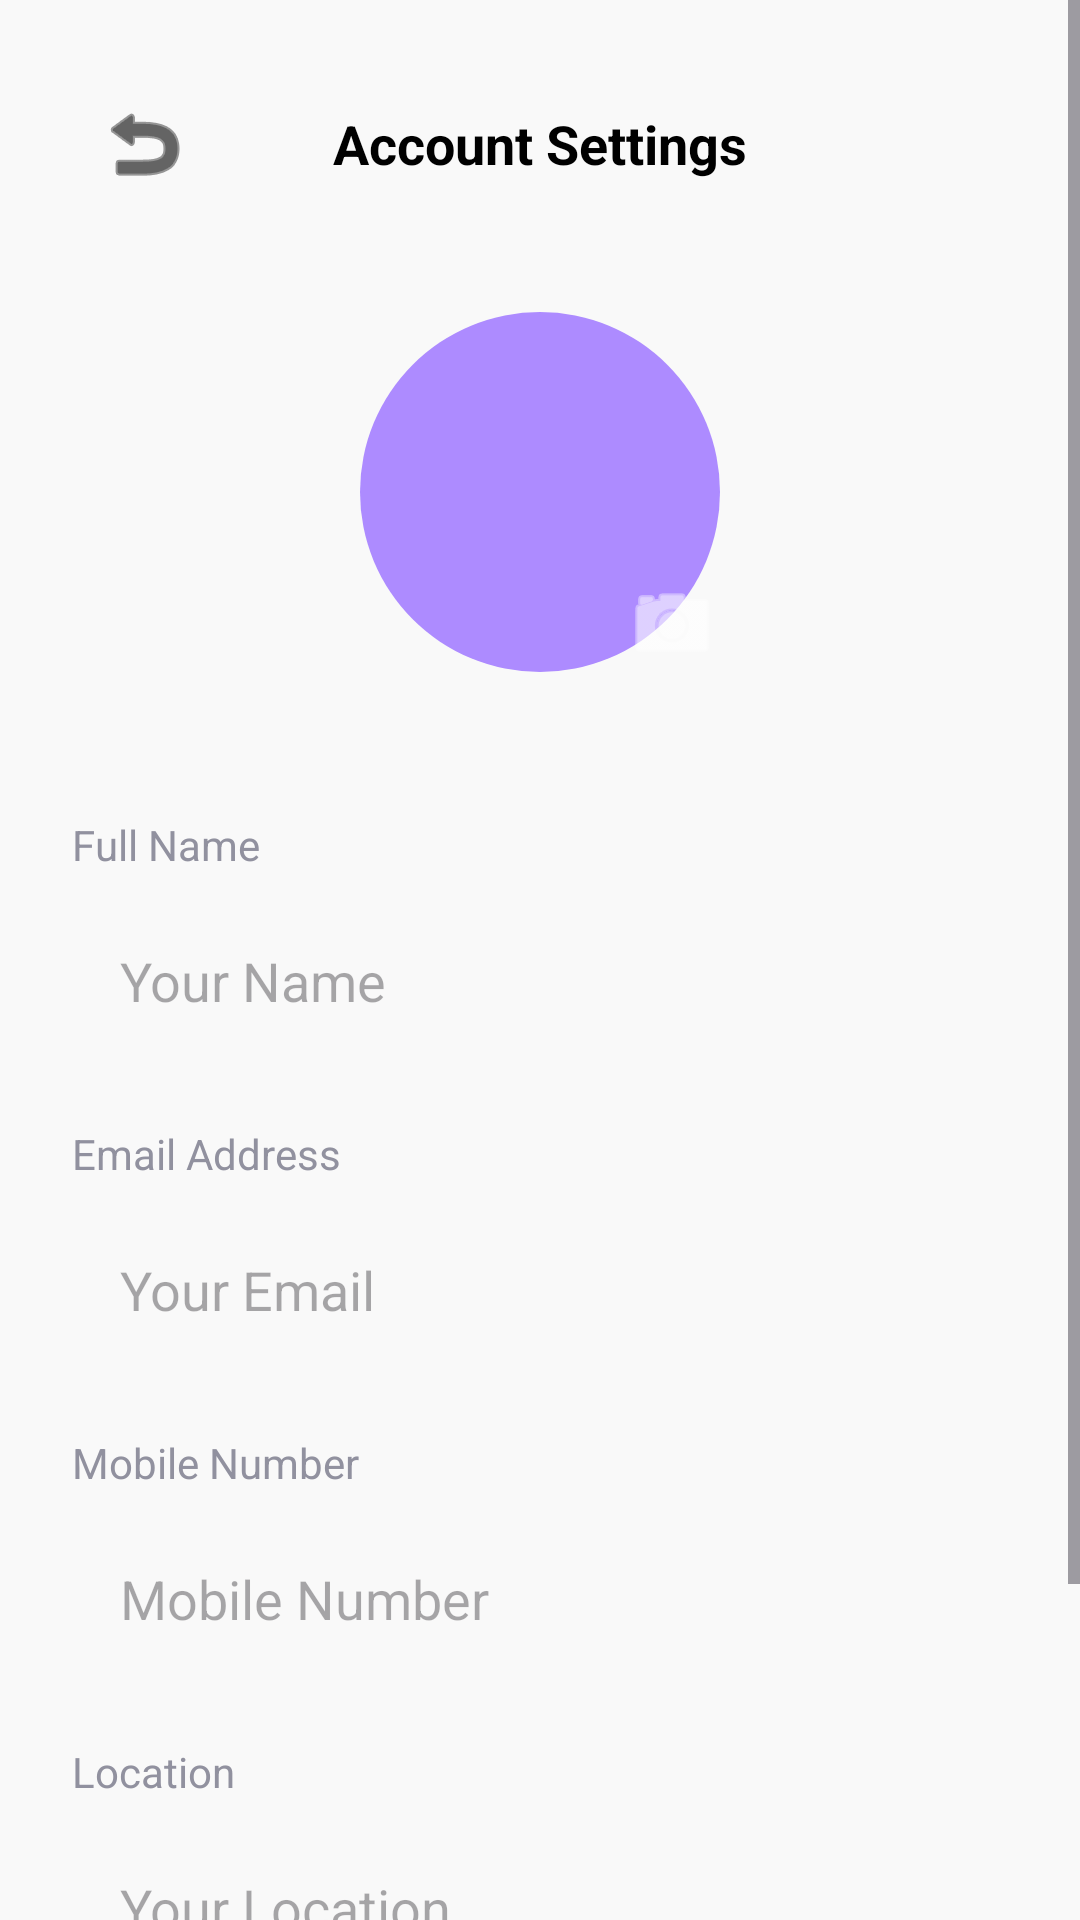

Icon click points for this 1080×1920 phone screenshot, format [x,y]:
revert: [145,144]
